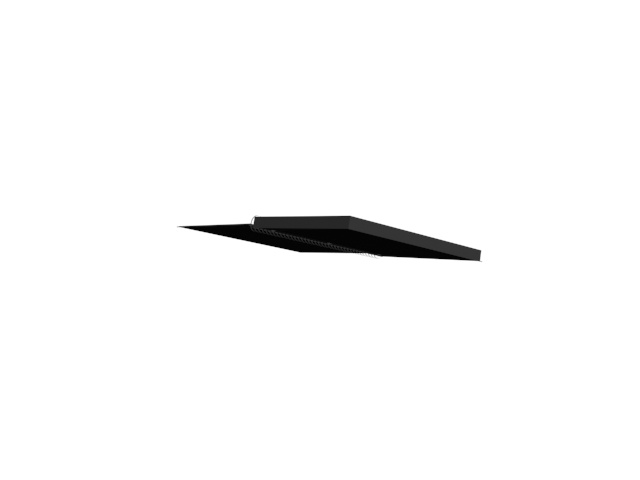paper_notebook: (177, 209, 488, 264)
